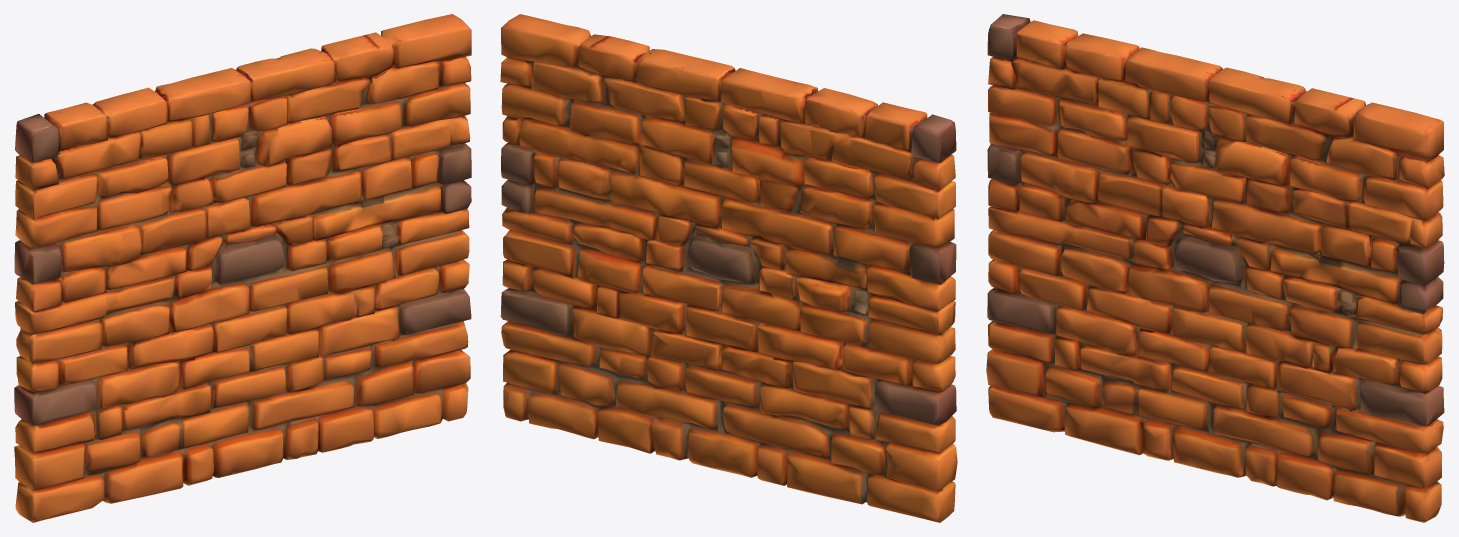
Rendered from create_a_wall_texture_0520175215_texture.glb.
3 renders of one model, left to right at view 1: azimuth 30°, elevation 25°; view 2: azimuth 150°, elevation 25°; view 3: azimuth 330°, elevation 25°, orthographic.
Bounding box in the file's own units: 2 × 1.73 × 0.2166.
Materials: 1 (1 with a texture image).
